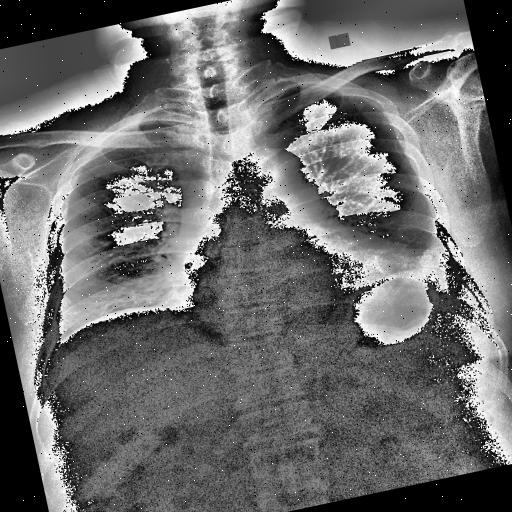0- Aortic enlargement: (234, 136, 324, 234), (253, 136, 325, 228), (244, 142, 322, 218)
10- Pleural effusion: (382, 224, 462, 300), (428, 238, 463, 274)
11- Pleural thickening: (382, 224, 462, 300), (428, 238, 463, 274)
3- Cardiomegaly: (165, 204, 419, 320), (152, 219, 430, 321)
